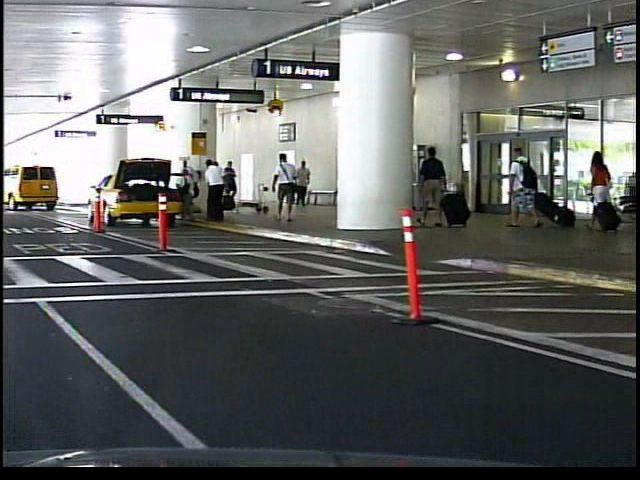person: (503, 142, 540, 228), (579, 145, 614, 230), (412, 142, 443, 229), (265, 150, 297, 223), (292, 160, 311, 207)
